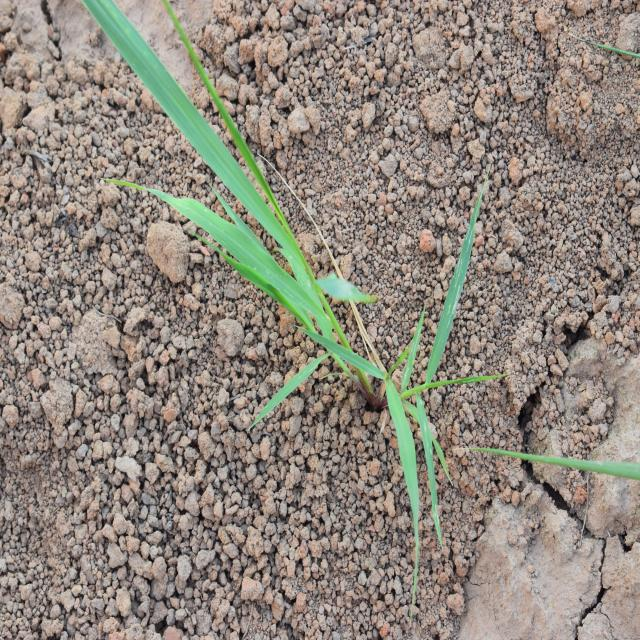green_foxtail: (196, 137, 489, 463)
